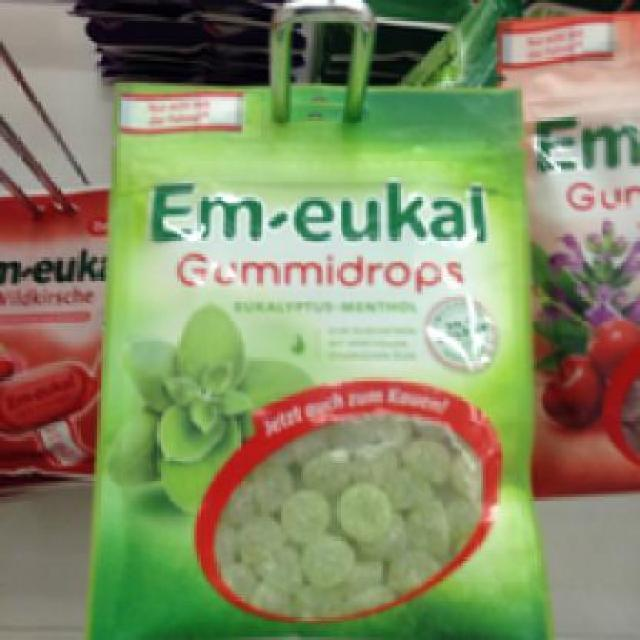Candy: (108, 77, 524, 632), (494, 11, 637, 483)
